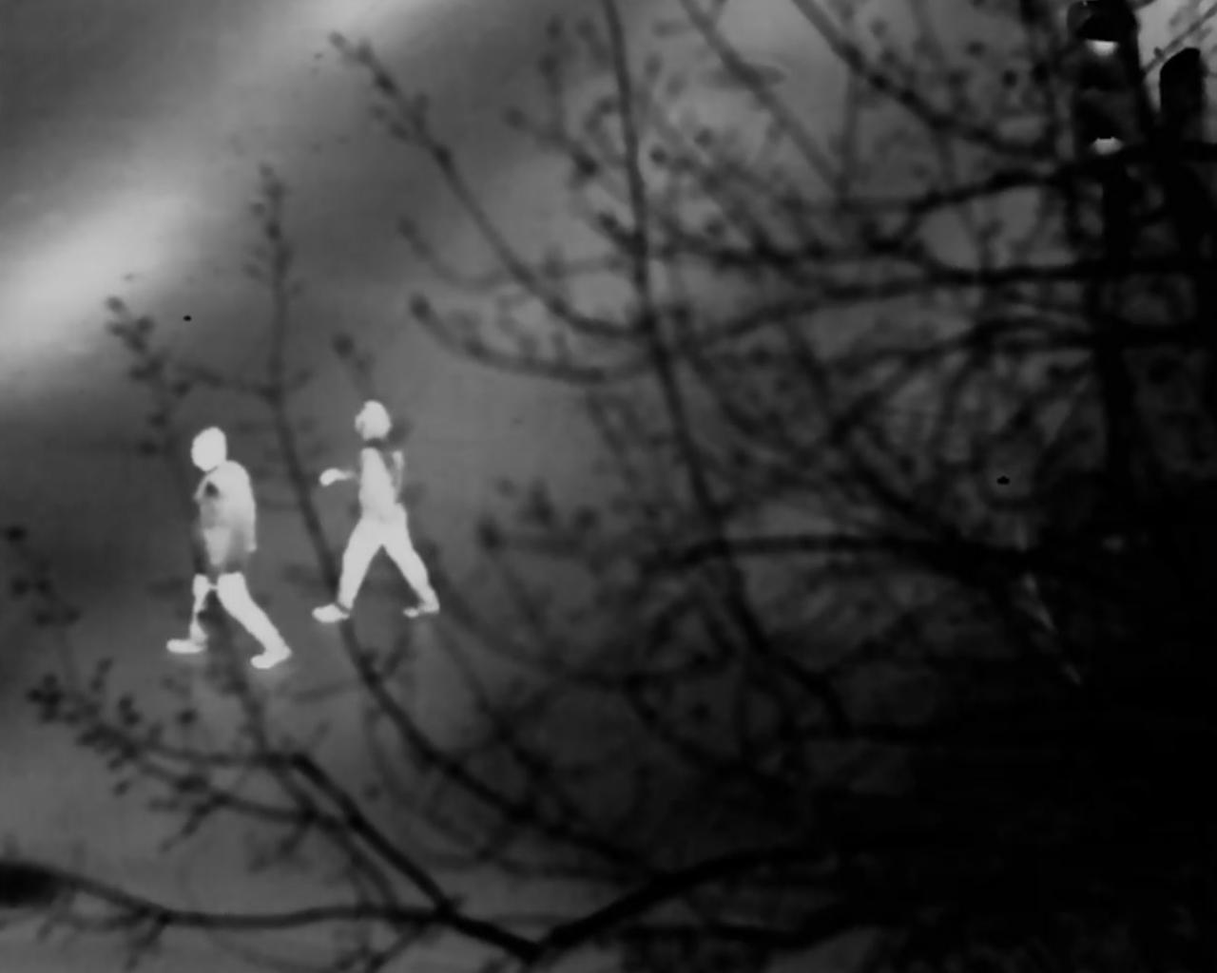person: (295, 402, 443, 621), (170, 426, 290, 665)
